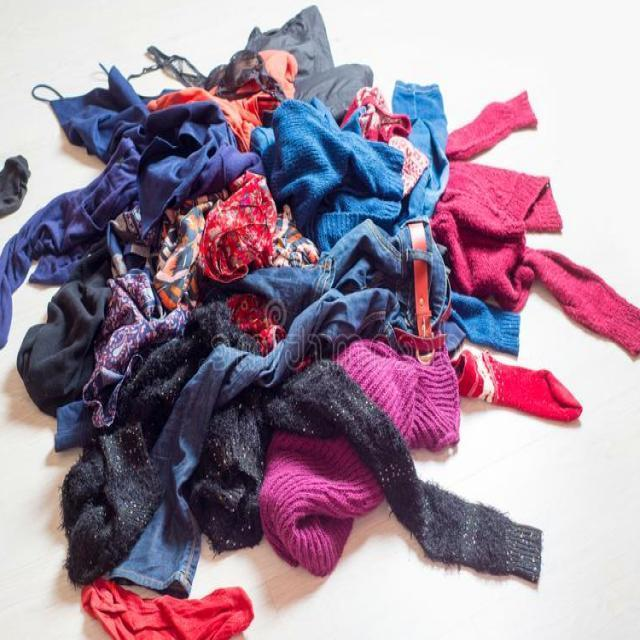clothes: (61, 82, 526, 575)
